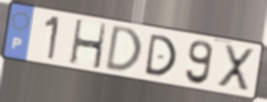1: (43, 15, 61, 62)
9: (185, 39, 215, 86)
D: (103, 24, 143, 74), (142, 32, 178, 78)
H: (68, 18, 108, 72)
X: (215, 43, 256, 95)
